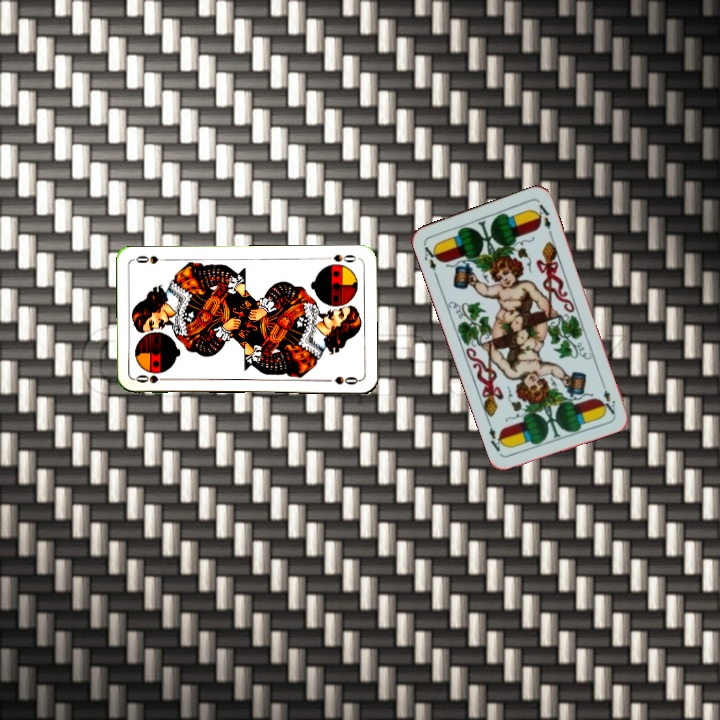EA: (420, 241, 442, 280), (597, 377, 618, 417)
SO: (320, 250, 360, 265), (132, 371, 172, 385)
